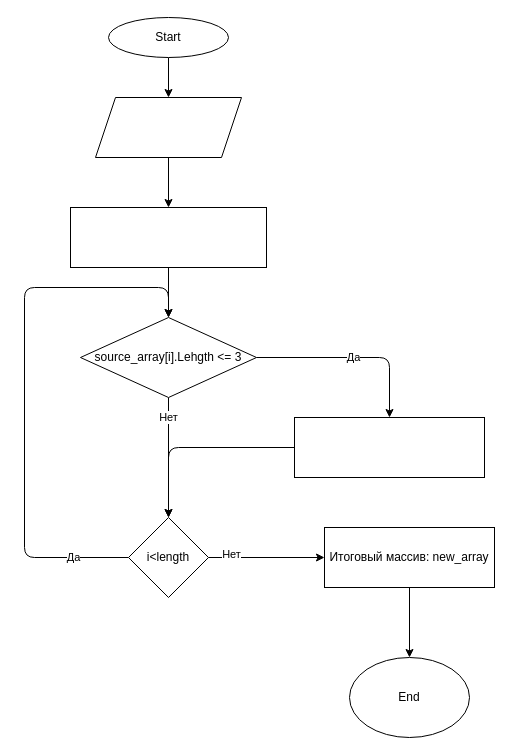
Image size: 512x755. Some labels were removed from this diagram. The shapes that lost their labels are listed below. From the top down, each one's box as (x1, y1, x2, y2) in pixels, then its label:
(94, 96, 242, 158): Введите массив строк source_array[] = string
(70, 206, 266, 268): length_array = source_array.Length new_array[] = new string[length] i=0 j=0
(294, 416, 484, 478): new_array[j] = source_array[i] j++
